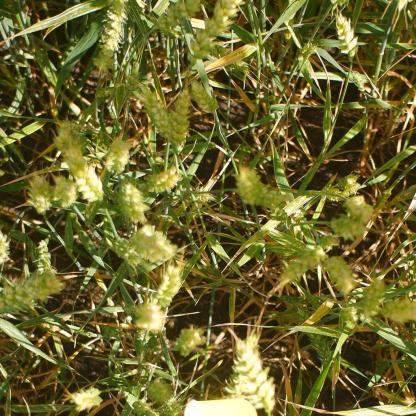whd: (222, 337, 276, 413), (56, 130, 103, 202), (191, 0, 242, 60), (0, 272, 66, 312), (297, 308, 332, 380), (132, 84, 173, 140), (278, 244, 328, 285), (236, 168, 282, 206), (131, 224, 175, 262), (156, 0, 200, 32), (151, 265, 181, 307), (100, 5, 126, 52), (324, 257, 358, 292), (121, 178, 147, 223), (172, 94, 190, 154), (336, 14, 359, 60), (214, 44, 250, 72), (27, 177, 54, 214), (332, 216, 370, 241), (341, 195, 373, 224), (112, 238, 144, 267), (37, 235, 57, 280), (363, 279, 386, 317), (69, 386, 103, 411), (192, 81, 219, 112), (177, 328, 206, 356), (53, 176, 78, 207), (106, 141, 130, 173), (380, 301, 416, 322), (135, 305, 164, 331), (148, 169, 180, 192), (124, 61, 141, 97), (148, 377, 172, 402), (92, 50, 116, 74), (134, 397, 160, 416), (320, 186, 350, 202), (338, 174, 358, 197), (160, 396, 181, 416), (185, 187, 214, 201), (279, 294, 310, 307), (57, 119, 80, 136), (0, 230, 10, 266), (338, 306, 358, 324), (316, 234, 338, 250), (301, 42, 318, 60), (72, 136, 90, 152), (270, 207, 288, 222), (353, 73, 366, 93), (101, 324, 117, 340), (108, 0, 126, 14), (136, 329, 152, 343), (294, 209, 306, 220), (330, 0, 346, 6)
